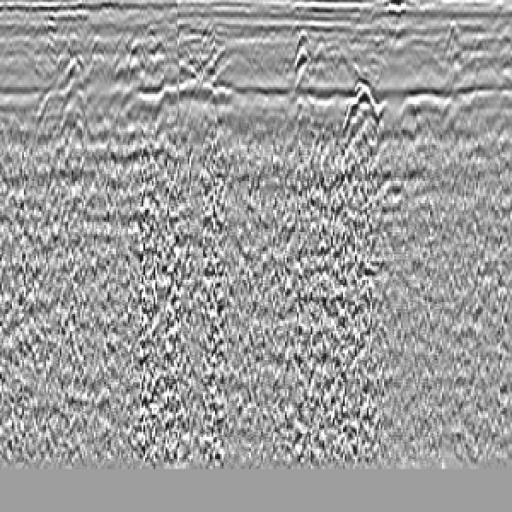metalic: (327, 67, 408, 261)
